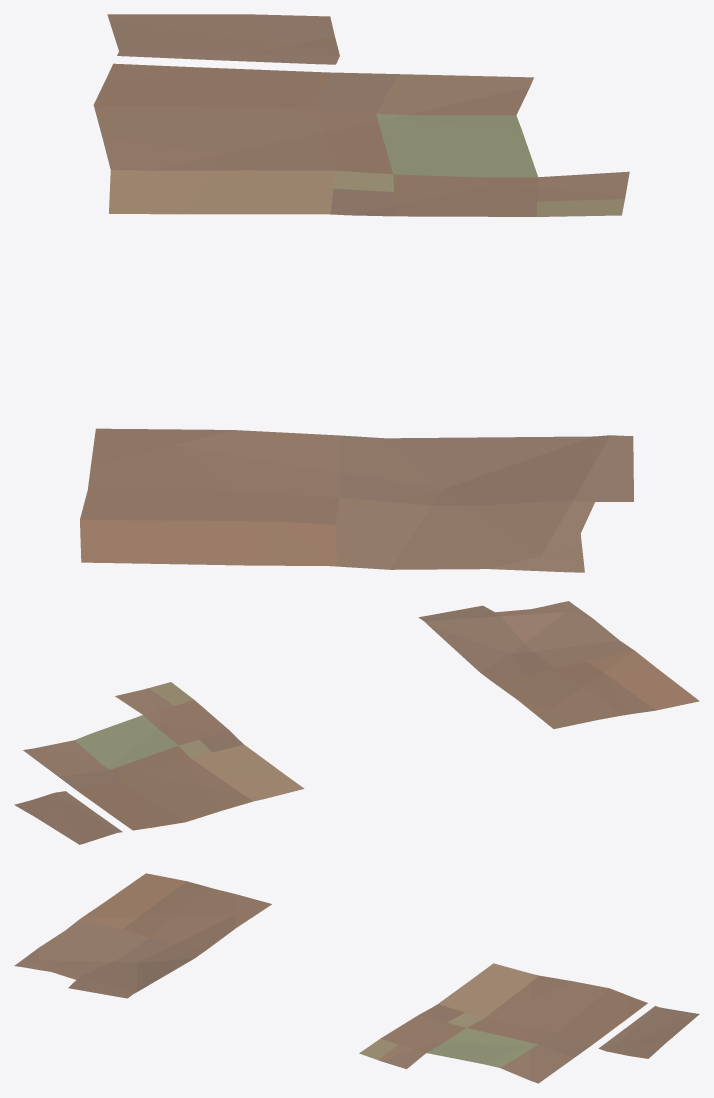
The model's file is farm_9_2_soil.glb.
3 renders of one model, top to bottom at view 1: azimuth 30°, elevation 25°; view 2: azimuth 150°, elevation 25°; view 3: azimuth 270°, elevation 25°, orthographic. The views are drawn at different scales.
Parts seen in each view (by area): view 1: geometry_0; view 2: geometry_0; view 3: geometry_0.
Part boxes in pixels (x1=…): geometry_0: x1=80, y1=14, x2=633, y2=572; geometry_0: x1=14, y1=601, x2=699, y2=844; geometry_0: x1=14, y1=873, x2=699, y2=1083.
Size of the model in its own units: 398 by 8.47 by 559.
